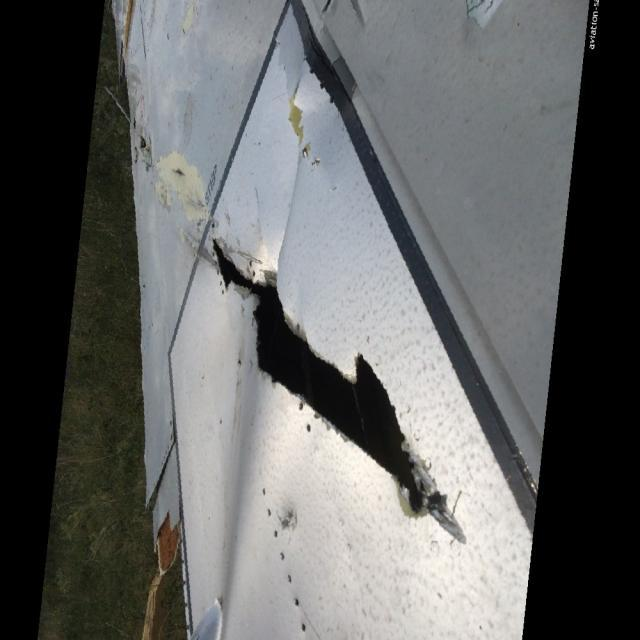crack: (208, 238, 456, 527), (170, 168, 188, 182)
